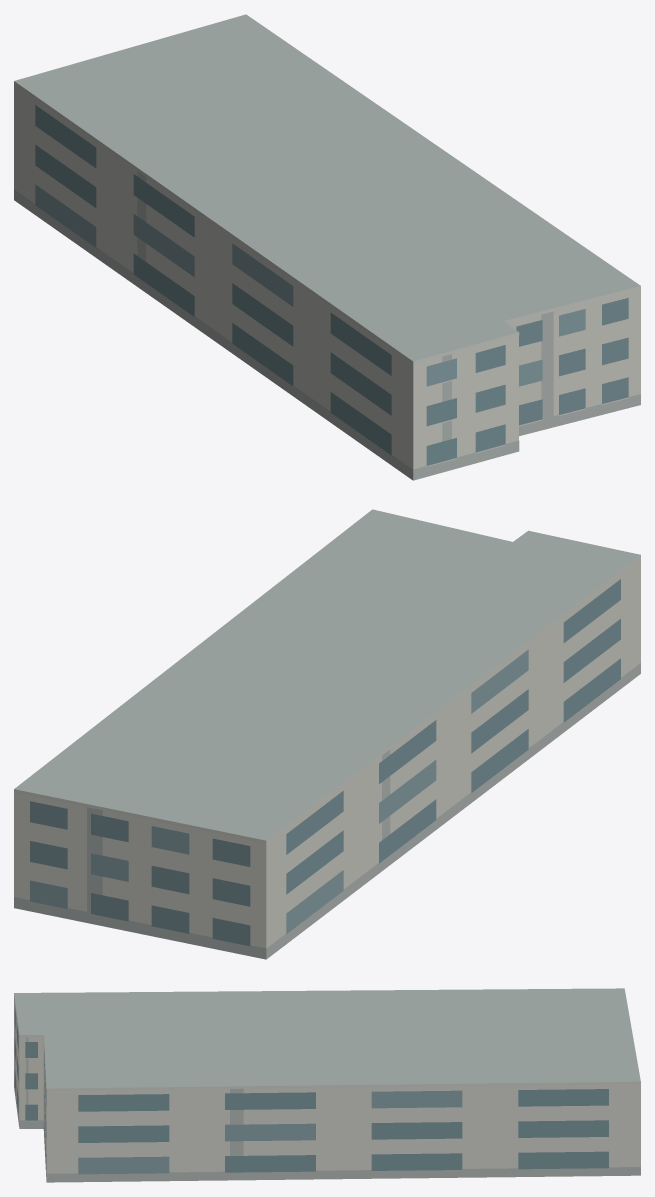
The model's file is survey-upis-32503045.glb.
3 renders of one model, top to bottom at view 1: azimuth 30°, elevation 25°; view 2: azimuth 150°, elevation 25°; view 3: azimuth 270°, elevation 25°, orthographic. The views are drawn at different scales.
Parts seen in each view (by area): view 1: survey-upis-32503045.tmp; view 2: survey-upis-32503045.tmp; view 3: survey-upis-32503045.tmp.
Part boxes in pixels (left/top/right/bottom): survey-upis-32503045.tmp: left=14, top=14, right=640, bottom=480; survey-upis-32503045.tmp: left=14, top=509, right=640, bottom=959; survey-upis-32503045.tmp: left=14, top=988, right=640, bottom=1182.
Bounding box in the file's own units: 20.92 × 9.15 × 55.32.
